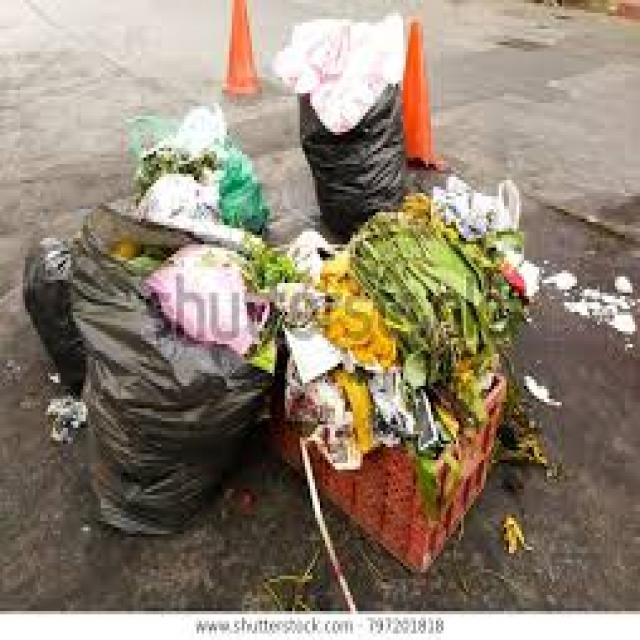plastic_bag: (84, 258, 276, 522), (299, 4, 415, 239), (29, 191, 122, 374)
